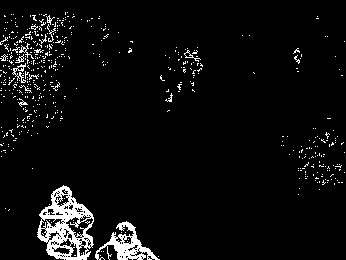person: (35, 183, 95, 260)
